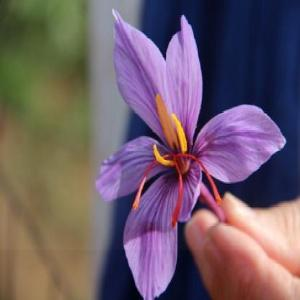Saffron: (98, 7, 286, 300)
